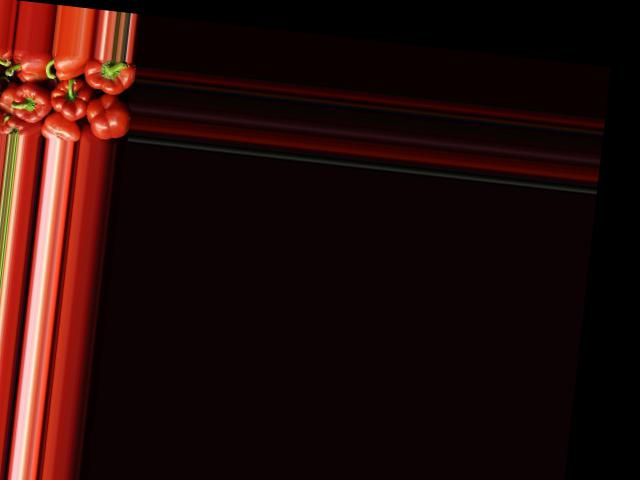bell_pepper: (41, 114, 83, 141)
